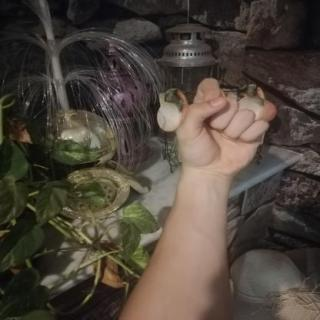FAA: (165, 72, 280, 183)
